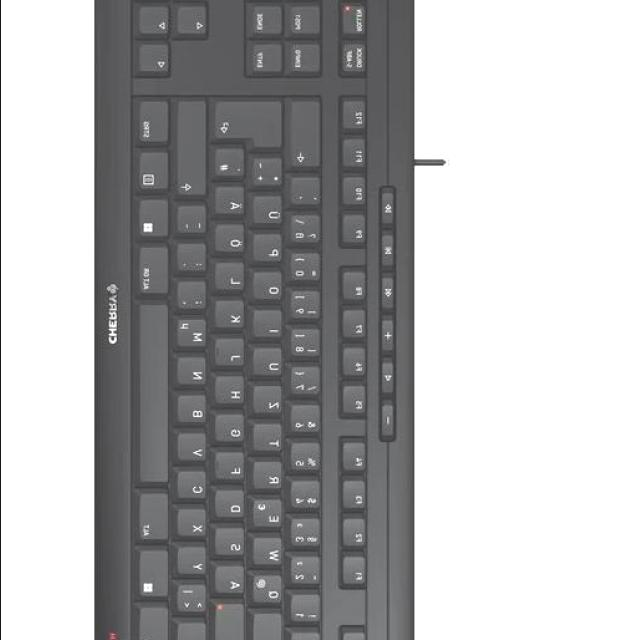0: (289, 254, 323, 285)
1: (290, 597, 321, 625)
2: (291, 558, 323, 588)
3: (291, 520, 323, 551)
4: (291, 482, 323, 512)
5: (289, 444, 323, 476)
6: (291, 406, 323, 437)
7: (291, 368, 323, 399)
8: (289, 329, 323, 360)
9: (291, 293, 323, 323)
a: (216, 568, 247, 596)
accent: (292, 180, 323, 208)
ae: (216, 189, 247, 217)
alt-left: (140, 494, 171, 544)
altgr-right: (138, 248, 172, 298)
b: (179, 397, 209, 427)
c: (178, 472, 209, 503)
caret: (292, 626, 323, 640)
comma: (178, 284, 209, 312)
d: (217, 492, 247, 520)
del: (292, 103, 323, 171)
e: (253, 501, 285, 531)
enter: (213, 103, 287, 151)
f: (217, 455, 247, 483)
g: (217, 416, 247, 444)
h: (217, 379, 247, 407)
hash: (215, 151, 247, 181)
i: (254, 313, 285, 341)
j: (216, 340, 247, 370)
k: (216, 302, 247, 332)
keyboard: (95, 0, 416, 640)
l: (217, 264, 247, 294)
less: (178, 587, 209, 617)
m: (177, 320, 209, 351)
minus: (178, 207, 209, 238)
n: (178, 360, 209, 388)
o: (254, 273, 285, 304)
oe: (216, 227, 247, 255)
p: (254, 236, 285, 266)
plus: (252, 160, 286, 190)
point: (178, 245, 208, 275)
q: (253, 577, 285, 608)
r: (254, 463, 285, 493)
s: (216, 531, 247, 559)
shift-left: (178, 623, 208, 640)
shift-lock: (216, 605, 248, 640)
shift-right: (178, 102, 209, 198)
space: (140, 306, 171, 486)
ss: (289, 216, 323, 247)
strg-left: (137, 608, 172, 640)
strg-right: (137, 101, 171, 147)
t: (254, 426, 284, 454)
tab: (254, 615, 285, 640)
u: (254, 350, 285, 378)
ue: (253, 198, 285, 228)
v: (179, 435, 209, 465)
w: (254, 539, 285, 569)
x: (178, 511, 208, 539)
y: (178, 549, 208, 578)
z: (254, 389, 284, 417)
